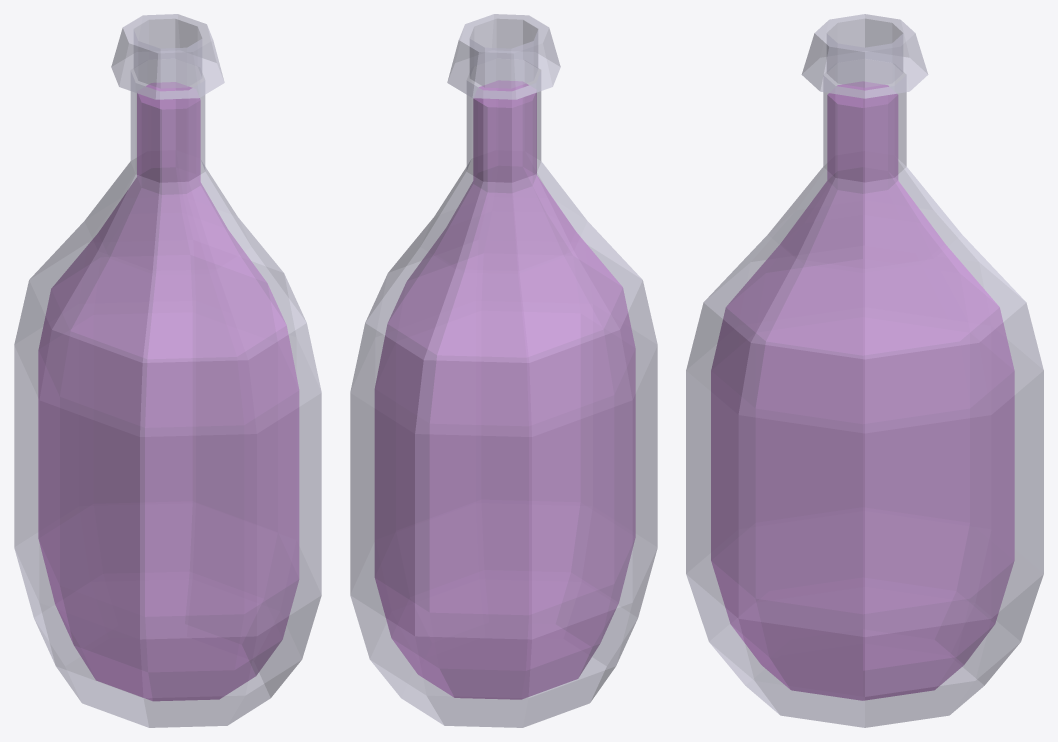
The model's file is MagicPotion.fbx.
3 renders of one model, left to right at view 1: azimuth 30°, elevation 25°; view 2: azimuth 150°, elevation 25°; view 3: azimuth 270°, elevation 25°, orthographic.
Parts seen in each view (by area): view 1: Bottle, water; view 2: Bottle, water; view 3: Bottle, water.
Boxes of the visible parts, x1=… form: Bottle: x1=14, y1=14, x2=321, y2=727; water: x1=38, y1=82, x2=298, y2=700; Bottle: x1=350, y1=14, x2=657, y2=727; water: x1=374, y1=80, x2=635, y2=699; Bottle: x1=686, y1=14, x2=1043, y2=727; water: x1=711, y1=81, x2=1014, y2=700.
Bounding box in the file's own units: 31.21 × 75.2 × 37.36.
